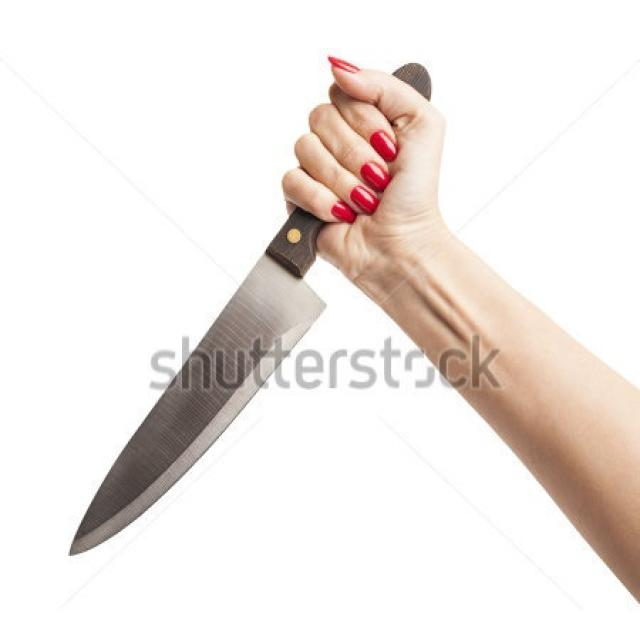knife: (64, 60, 441, 559)
